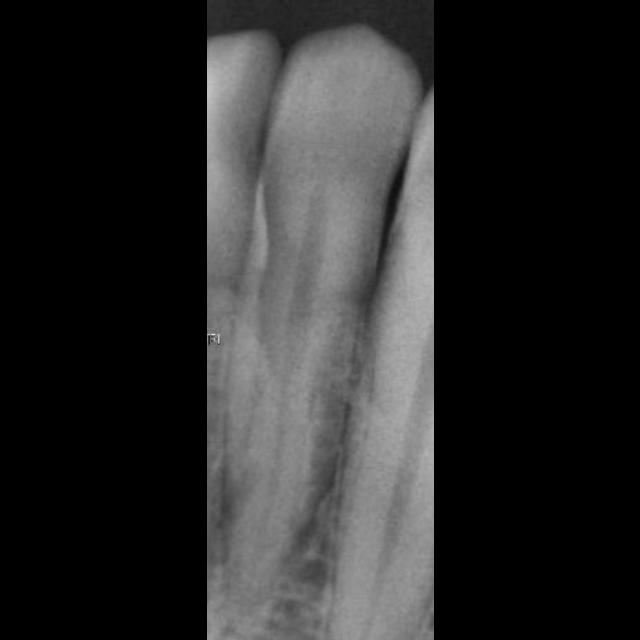tooth: (223, 21, 424, 607)
